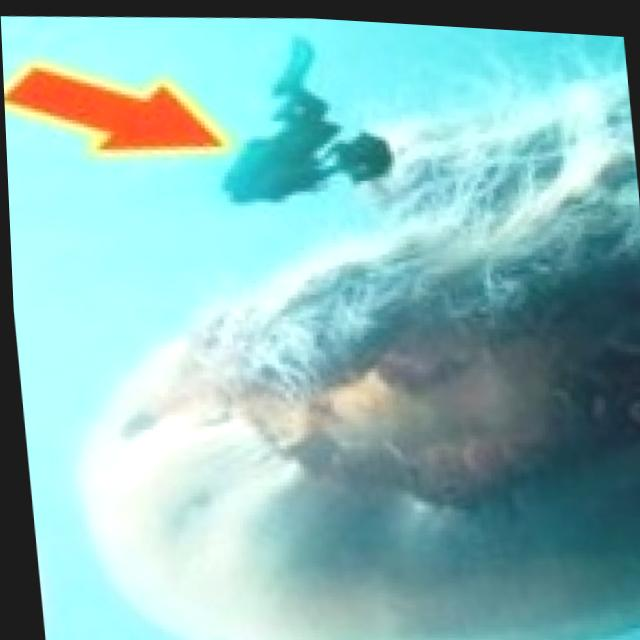Box-jellyfish: (27, 32, 640, 640)
